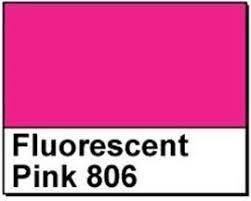pink_zone: (2, 3, 249, 129)
